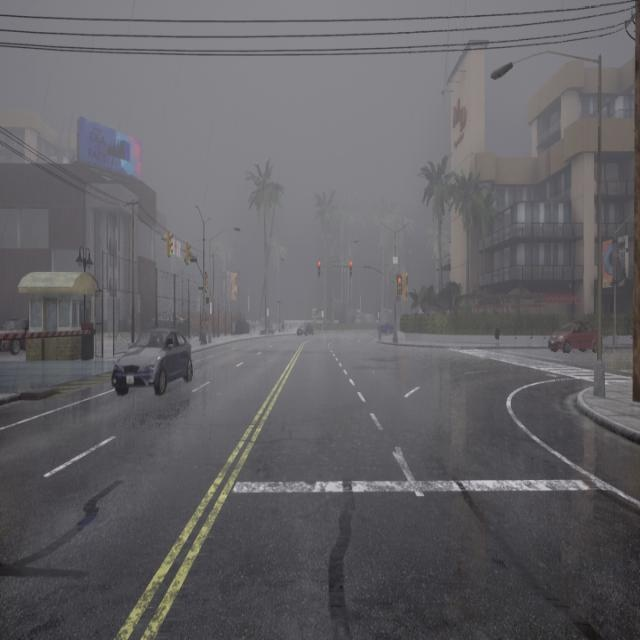bien_chi_dan: (167, 231, 173, 258), (185, 242, 191, 266), (349, 259, 353, 277), (317, 260, 321, 277), (205, 271, 208, 293), (398, 277, 401, 294), (349, 260, 352, 266), (318, 260, 320, 266), (398, 278, 401, 282), (170, 251, 172, 256), (188, 260, 190, 264), (206, 287, 207, 291)
